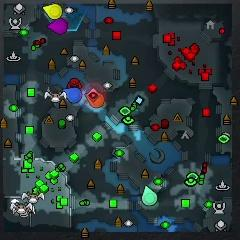p1: (62, 88, 82, 103)
p2: (141, 185, 157, 206)
p3: (47, 18, 68, 35)
p4: (42, 4, 62, 20)
p5: (85, 92, 104, 108)
